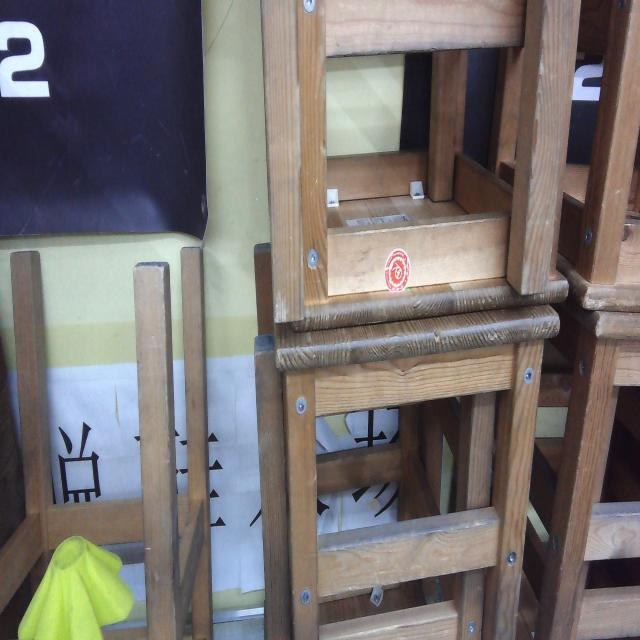Yellow-Stake-Head: (18, 534, 134, 640)
